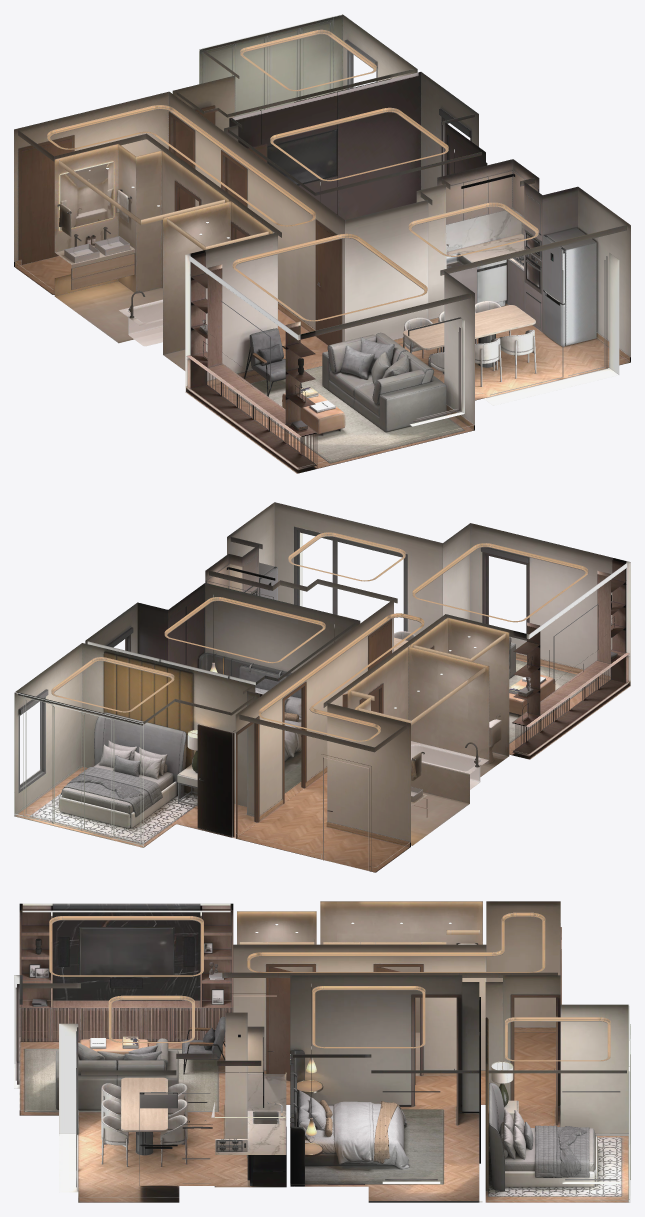
The model's file is apartamento1.glb.
3 views of the same model, one above another, from view 1: azimuth 30°, elevation 25°; view 2: azimuth 150°, elevation 25°; view 3: azimuth 270°, elevation 25° (orthographic). The views are drawn at different scales.
Parts seen in each view (by area): view 1: Sala_Cozinha_4, Banheiros_Corredor_0, Quartos_3, Teto_1; view 2: Quartos_3, Banheiros_Corredor_0, Sala_Cozinha_4, Teto_1, Chambre01_Meuble_Lit_2; view 3: Sala_Cozinha_4, Quartos_3, Banheiros_Corredor_0, Teto_1, Chambre01_Meuble_Lit_2.
Part boxes in pixels (left/top/right/bottom): Sala_Cozinha_4: left=185, top=159, right=630, bottom=473; Banheiros_Corredor_0: left=14, top=91, right=344, bottom=370; Quartos_3: left=169, top=14, right=487, bottom=238; Teto_1: left=18, top=29, right=626, bottom=340; Quartos_3: left=14, top=583, right=360, bottom=847; Banheiros_Corredor_0: left=235, top=599, right=509, bottom=872; Sala_Cozinha_4: left=205, top=502, right=630, bottom=759; Teto_1: left=18, top=532, right=627, bottom=752; Chambre01_Meuble_Lit_2: left=60, top=687, right=301, bottom=816; Sala_Cozinha_4: left=14, top=903, right=286, bottom=1202; Quartos_3: left=290, top=975, right=630, bottom=1202; Banheiros_Corredor_0: left=230, top=901, right=561, bottom=1104; Teto_1: left=22, top=912, right=626, bottom=1075; Chambre01_Meuble_Lit_2: left=297, top=1090, right=595, bottom=1177.
Bounding box in the file's own units: 0.3308 × 0.1177 × 0.5.
5 materials, 5 textured.
